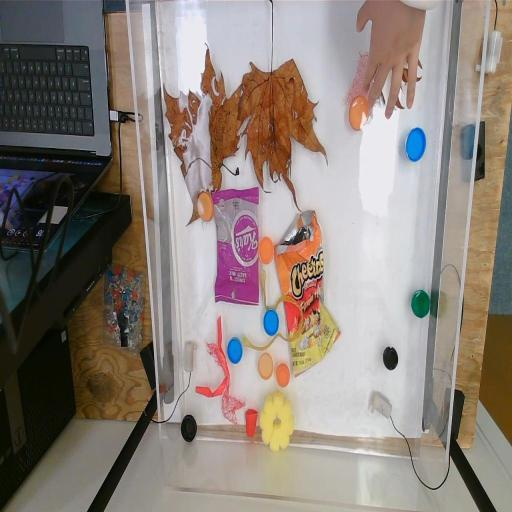Bottle Cap: (405, 126, 427, 162), (350, 95, 370, 133), (411, 289, 431, 319), (263, 306, 281, 338), (258, 350, 274, 382), (258, 234, 274, 266), (198, 192, 214, 224), (180, 414, 198, 442), (382, 344, 399, 372), (227, 336, 243, 365), (276, 362, 290, 388)
Cone Cap: (245, 408, 257, 438)
Leaf: (234, 0, 326, 214), (162, 42, 242, 228), (376, 50, 424, 110)
Netting: (206, 340, 245, 426), (346, 50, 386, 120)
Plastic Bag: (272, 210, 342, 380), (210, 187, 260, 306)
Plastic Strand: (242, 269, 304, 353), (194, 316, 230, 398)
Sponge: (260, 392, 294, 452)
